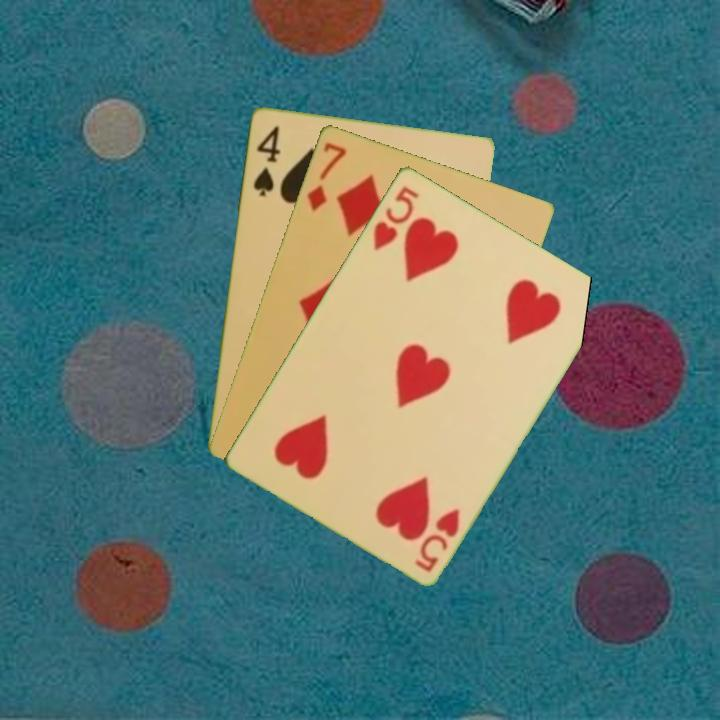4s: (249, 122, 283, 199)
5h: (369, 181, 422, 254), (411, 504, 463, 575)
7d: (303, 138, 349, 213)
